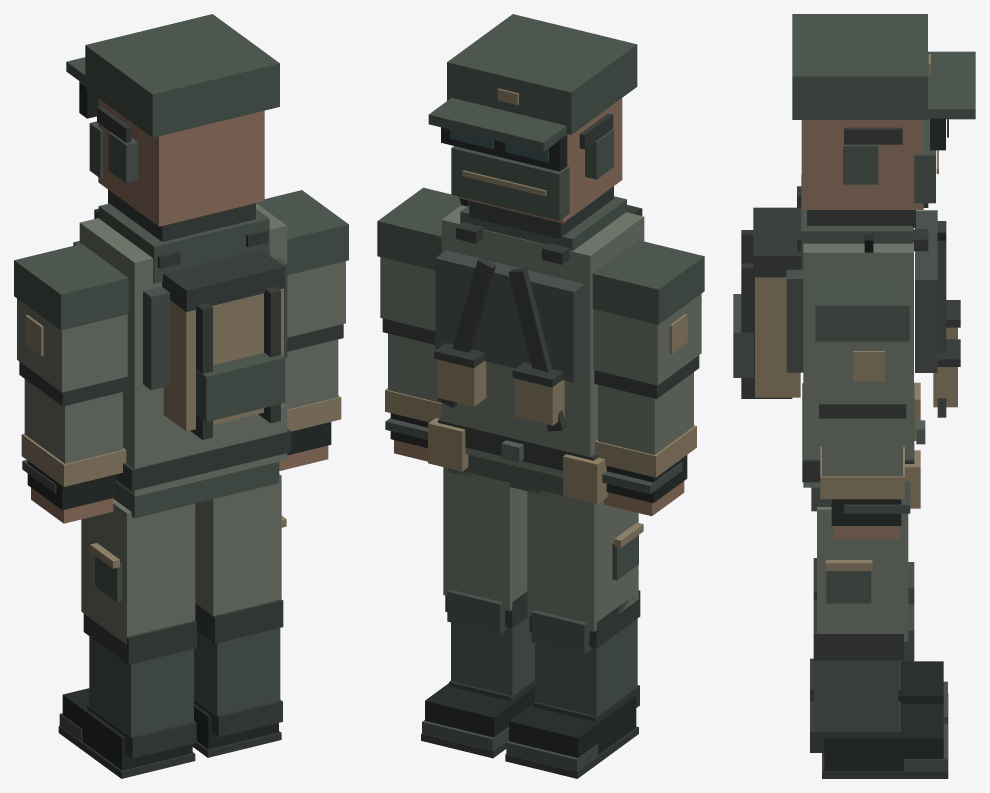
The model's file is rusher.glb.
3 renders of one model, left to right at view 1: azimuth 30°, elevation 25°; view 2: azimuth 150°, elevation 25°; view 3: azimuth 270°, elevation 25°, orthographic. The views are drawn at different scales.
Parts seen in each view (by area): view 1: Merged_material (×14), Face, Torso fatigues, Trouser thigh L, Trouser thigh R, Sleeve top patch L, Sleeve top patch R, Light boot L, Glove palm L, Elbow L, Light boot R, Exposed fingertips L (+3 smaller); view 2: Merged_material (×18), Torso fatigues, Trouser thigh L, Trouser thigh R, Sleeve top patch L, Light boot L, Sleeve top patch R, Light boot R, Face, Goggle frame, Elbow L, Glove palm L (+4 smaller); view 3: Merged_material (×14), Face, Trouser thigh R, Torso fatigues, Sleeve top patch R, Light boot R, Light boot L, Glove palm R, Elbow R, Exposed fingertips R, Glove knuckles R, Goggle frame.
Part boxes in pixels (box(x1,y1,x2,y2)): Merged_material (×14): box(17, 14, 345, 778); Face: box(98, 98, 264, 226); Torso fatigues: box(79, 203, 287, 496); Trouser thigh L: box(81, 499, 195, 644); Trouser thigh R: box(195, 474, 281, 615); Sleeve top patch L: box(14, 244, 128, 330); Sleeve top patch R: box(256, 190, 348, 275); Light boot L: box(62, 688, 192, 770); Glove palm L: box(27, 461, 116, 510); Elbow L: box(19, 361, 126, 406); Light boot R: box(194, 703, 278, 749); Exposed fingertips L: box(31, 488, 113, 523); Merged_material (×18): box(380, 14, 701, 778); Torso fatigues: box(441, 205, 644, 477); Trouser thigh L: box(527, 488, 638, 631); Trouser thigh R: box(443, 467, 527, 611); Sleeve top patch L: box(592, 240, 704, 324); Light boot L: box(509, 695, 636, 757); Sleeve top patch R: box(377, 187, 461, 270); Light boot R: box(425, 683, 534, 737); Face: box(459, 98, 622, 223); Goggle frame: box(441, 127, 567, 171); Elbow L: box(594, 355, 699, 398); Glove palm L: box(606, 455, 687, 503); Merged_material (×14): box(733, 14, 975, 778); Face: box(801, 120, 923, 209); Trouser thigh R: box(817, 507, 908, 641); Torso fatigues: box(803, 228, 913, 487); Sleeve top patch R: box(815, 272, 909, 341); Light boot R: box(824, 703, 943, 771); Light boot L: box(898, 661, 943, 703); Glove palm R: box(831, 499, 901, 525); Elbow R: box(819, 404, 906, 418); Exposed fingertips R: box(833, 526, 899, 539); Glove knuckles R: box(844, 481, 910, 513); Goggle frame: box(930, 118, 945, 150).
Size of the model in its own units: 0.861 by 1.96 by 0.6195.
